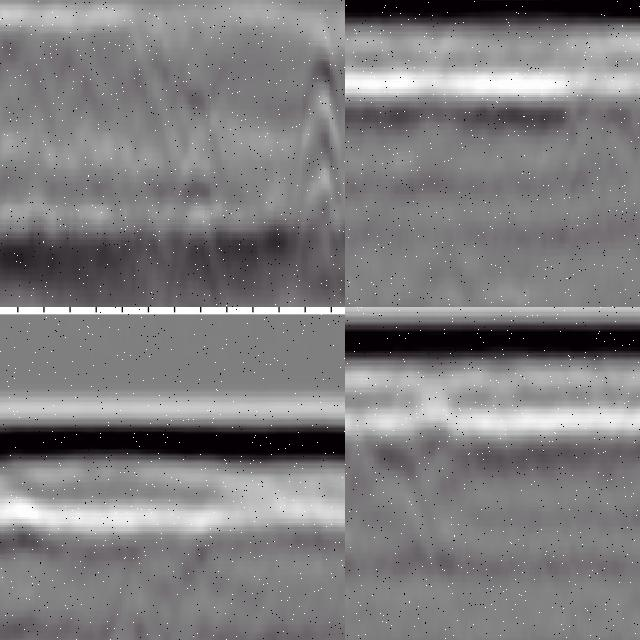loose: (346, 418, 457, 580), (290, 54, 346, 302)
